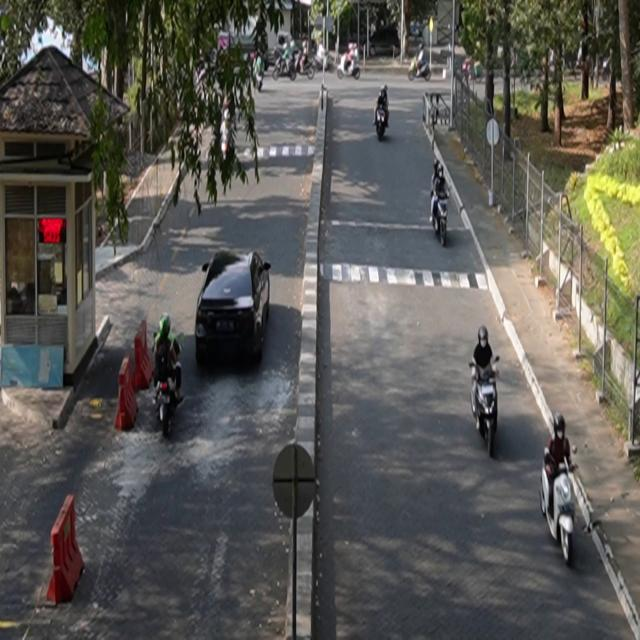car: (196, 249, 272, 366)
